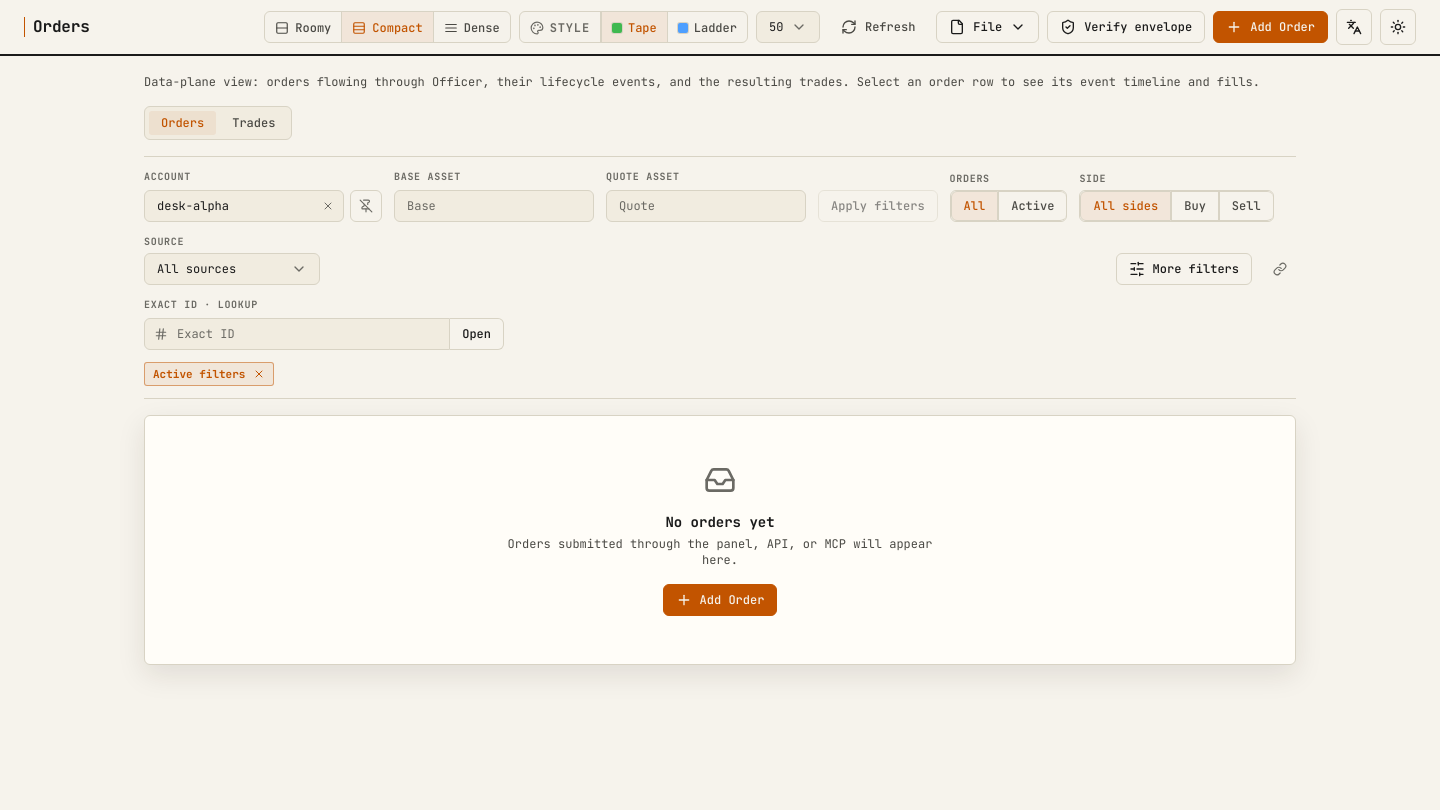
Test: Orders account pre-fill › seeds the account filter from the ?account= query param
Expected: the dropdown with placeholder "Filter by account…" holds "desk-alpha", left=144, top=190, right=344, bottom=222
Expected: the text "Active filters" is shown, left=144, top=362, right=274, bottom=386
Click the button named "clear all filters": {"x": 259, "y": 374} left=249, top=364, right=269, bottom=384
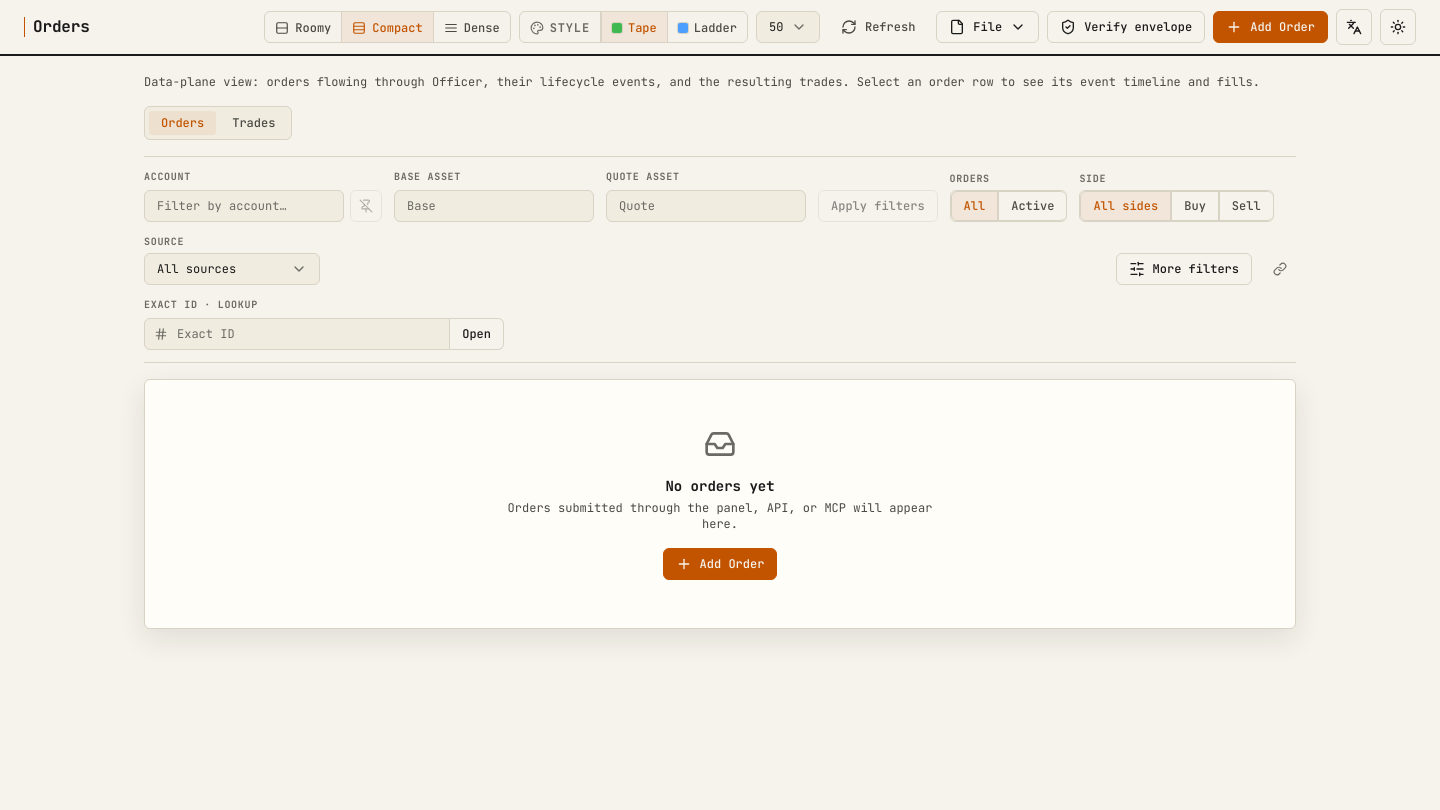
Expected: the dropdown with placeholder "Filter by account…" is empty, left=144, top=190, right=344, bottom=222
Expected: the text "Active filters" is gone
